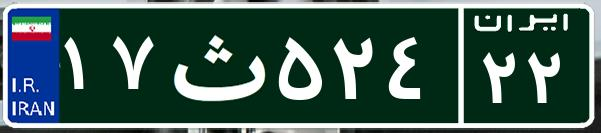1: (57, 26, 110, 107)
2: (330, 28, 385, 110), (475, 38, 525, 113), (525, 38, 570, 115)
4: (385, 28, 445, 110)
5: (273, 28, 330, 110)
7: (110, 28, 158, 105)
ث: (158, 15, 273, 115)
